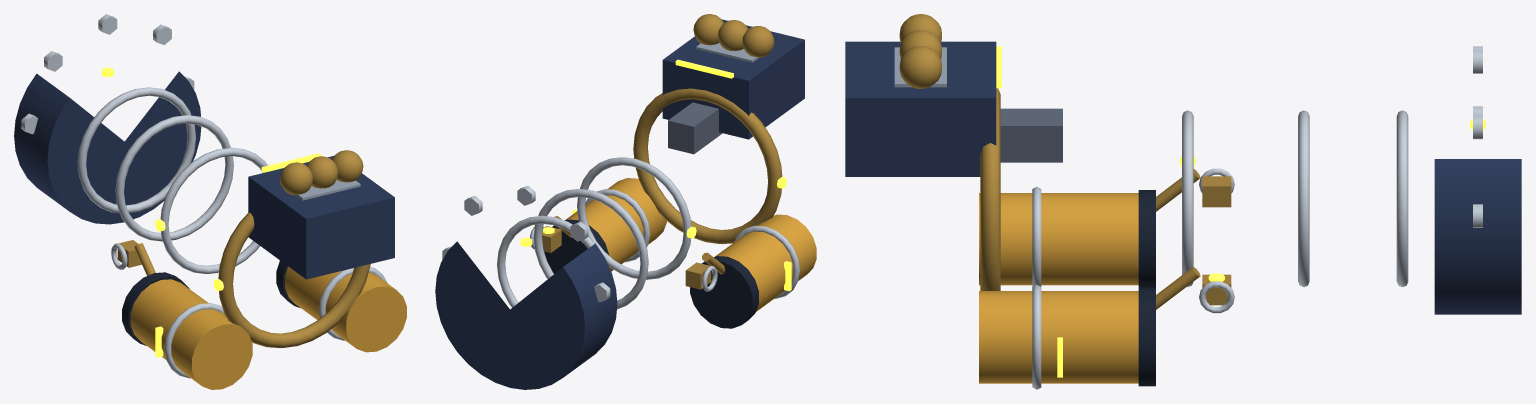
The model's file is tower_nova_damage_s7.glb.
3 renders of one model, left to right at view 1: azimuth 30°, elevation 25°; view 2: azimuth 150°, elevation 25°; view 3: azimuth 270°, elevation 25°, orthographic. The views are drawn at different scales.
Visible parts, largest first — view 1: nova_brake_shroud, nova_cluster_hopper, nova_napalm_can_r, nova_napalm_can_l, nova_pressure_ring, nova_tube_band1.02, nova_tube_band1.36, nova_tube_band0.62, nova_brake_shroud_bolts, nova_napalm_cap_r, nova_bomblet2, nova_napalm_strap_r (+7 smaller); view 2: nova_brake_shroud, nova_cluster_hopper, nova_pressure_ring, nova_napalm_can_r, nova_napalm_can_l, nova_napalm_cap_r, nova_tube_band0.62, nova_tube_band1.02, nova_cluster_feed, nova_tube_band1.36, nova_brake_shroud_bolts, nova_napalm_cap_l (+9 smaller); view 3: nova_cluster_hopper, nova_napalm_can_l, nova_brake_shroud, nova_napalm_can_r, nova_cluster_feed, nova_pressure_ring, nova_tube_band1.36, nova_tube_band1.02, nova_tube_band0.62, nova_napalm_cap_l, nova_napalm_cap_r, nova_bomblet0 (+9 smaller).
Part boxes in pixels (box(x1,y1,x2,y2)): nova_brake_shroud: box(14, 71, 201, 224); nova_cluster_hopper: box(248, 156, 394, 279); nova_napalm_can_r: box(130, 279, 252, 389); nova_napalm_can_l: box(285, 266, 406, 352); nova_pressure_ring: box(218, 212, 370, 348); nova_tube_band1.02: box(115, 115, 233, 241); nova_tube_band1.36: box(77, 87, 195, 213); nova_tube_band0.62: box(160, 147, 267, 273); nova_brake_shroud_bolts: box(21, 14, 194, 134); nova_napalm_cap_r: box(122, 272, 189, 345); nova_bomblet2: box(280, 162, 312, 195); nova_napalm_strap_r: box(164, 303, 224, 378); nova_brake_shroud: box(435, 241, 617, 389); nova_cluster_hopper: box(662, 19, 804, 139); nova_pressure_ring: box(633, 88, 782, 244); nova_napalm_can_r: box(715, 214, 816, 311); nova_napalm_can_l: box(565, 178, 666, 271); nova_napalm_cap_r: box(690, 256, 758, 328); nova_tube_band0.62: box(577, 157, 691, 279); nova_tube_band1.02: box(533, 189, 648, 309); nova_cluster_feed: box(668, 102, 722, 154); nova_tube_band1.36: box(497, 215, 594, 307); nova_brake_shroud_bolts: box(442, 186, 610, 302); nova_napalm_cap_l: box(544, 219, 609, 273); nova_cluster_hopper: box(845, 41, 996, 176); nova_napalm_can_l: box(979, 291, 1138, 383); nova_brake_shroud: box(1434, 159, 1521, 314); nova_napalm_can_r: box(979, 193, 1138, 285); nova_cluster_feed: box(1000, 108, 1062, 162); nova_pressure_ring: box(980, 88, 1000, 290); nova_tube_band1.36: box(1396, 110, 1408, 287); nova_tube_band1.02: box(1298, 110, 1309, 286); nova_tube_band0.62: box(1182, 110, 1193, 287); nova_napalm_cap_l: box(1138, 288, 1155, 386); nova_napalm_cap_r: box(1138, 190, 1155, 287); nova_bomblet0: box(899, 46, 941, 88).
Bounding box in the file's own units: 1.17 × 1.16 × 2.33.
